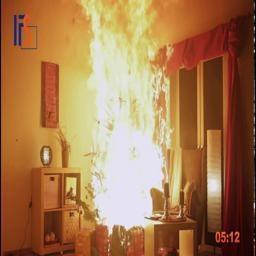fire: (65, 0, 183, 233)
